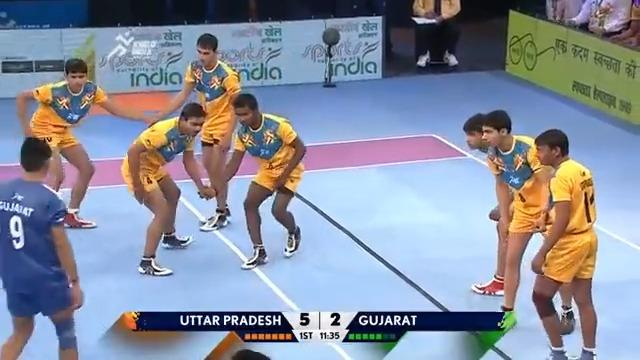Player: (479, 108, 576, 335), (146, 32, 242, 231), (119, 100, 215, 277), (215, 91, 308, 270), (529, 128, 599, 358), (18, 51, 98, 239), (462, 112, 513, 296)
Raider: (0, 136, 84, 358)
referee: (411, 0, 462, 68)
